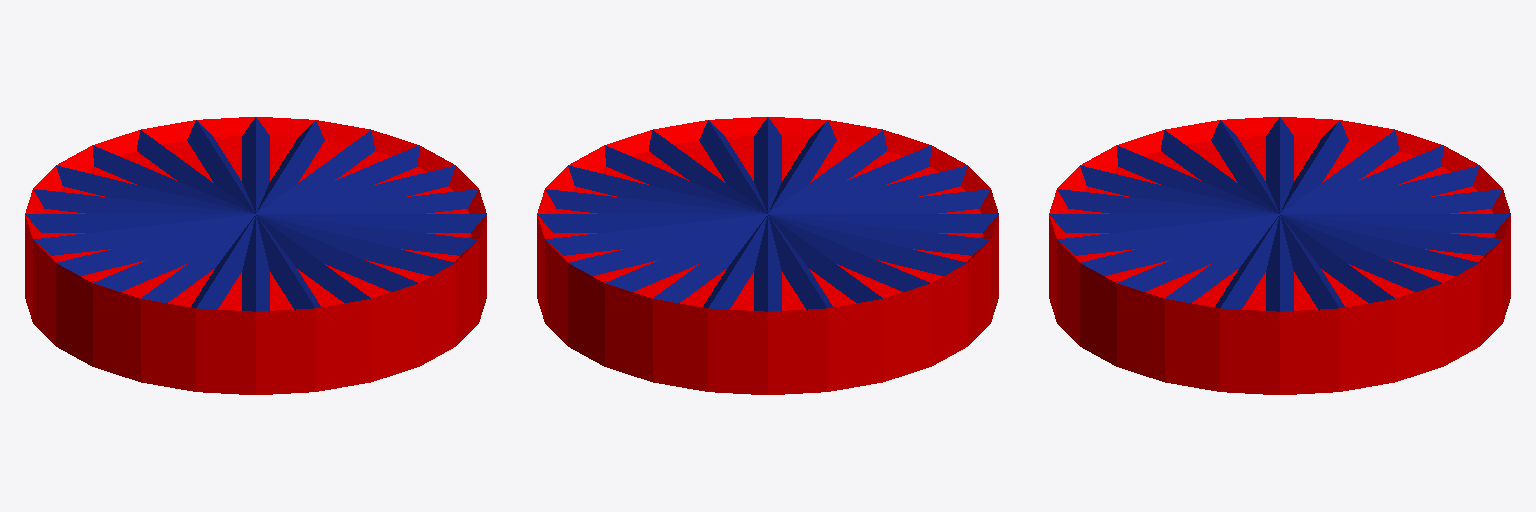
3 renders of one model, left to right at view 1: azimuth 30°, elevation 25°; view 2: azimuth 150°, elevation 25°; view 3: azimuth 270°, elevation 25°, orthographic.
Parts seen in each view (by area): view 1: puck.obj; view 2: puck.obj; view 3: puck.obj.
Boxes of the visible parts, x1,y1,x2,y2 form: puck.obj: [25, 117, 486, 394]; puck.obj: [537, 117, 998, 394]; puck.obj: [1049, 117, 1510, 394].
Size of the model in its own units: 1 by 0.2 by 1.
2 materials, 2 textured.